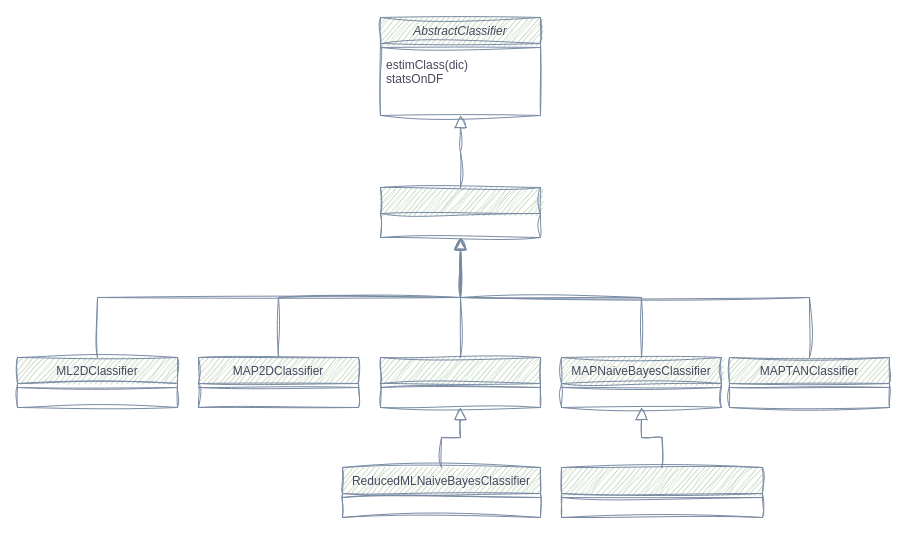
The diagram is 907 pixels wide and 534 high, and some of its shapes have lost their labels. Each missing label, with the centre of its shape:
"APrioriClassifier" belongs at (460,212).
"MLNaiveBayesClassifier" belongs at (460,382).
"ReducedMAPNaiveBayesClassifier" belongs at (661,492).
